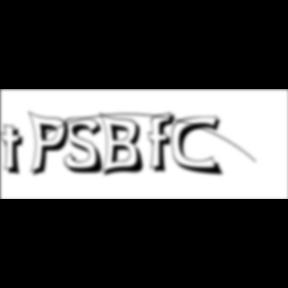B: (100, 111, 150, 179)
C: (172, 115, 226, 178)
P: (28, 110, 76, 180)
S: (64, 117, 110, 176)
f: (148, 111, 180, 175)
t: (0, 124, 32, 179)
